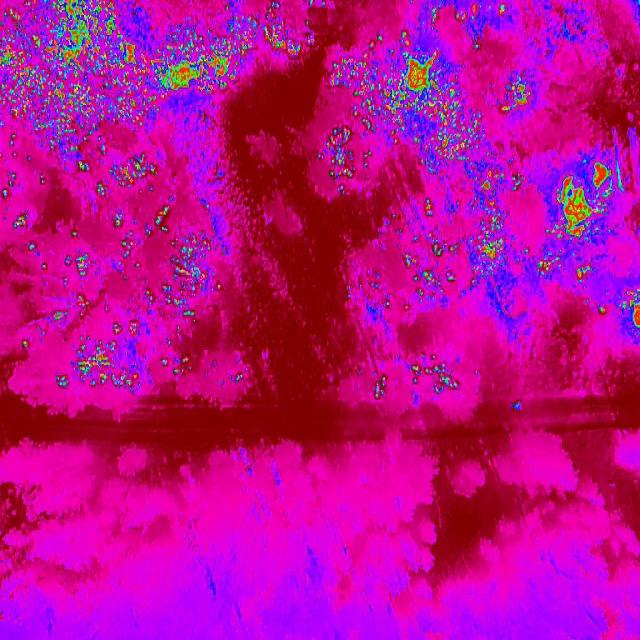fire: (0, 0, 228, 151), (332, 30, 492, 169), (538, 150, 626, 284), (470, 170, 531, 336), (228, 0, 318, 82), (55, 333, 153, 395), (166, 232, 226, 324), (312, 126, 372, 198), (93, 150, 158, 201), (409, 359, 462, 400), (112, 212, 143, 276), (501, 73, 536, 115), (414, 263, 444, 305), (620, 284, 640, 342), (74, 252, 92, 314), (431, 233, 459, 259), (152, 201, 172, 229)
